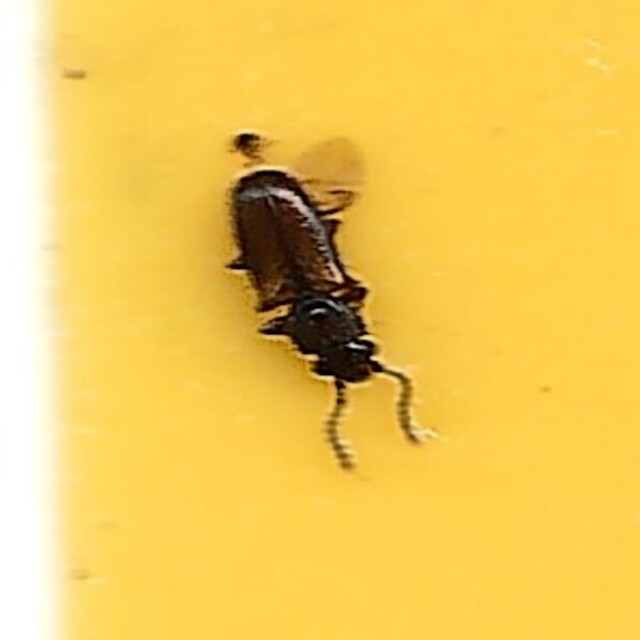Coleoptera: (215, 163, 425, 477)
